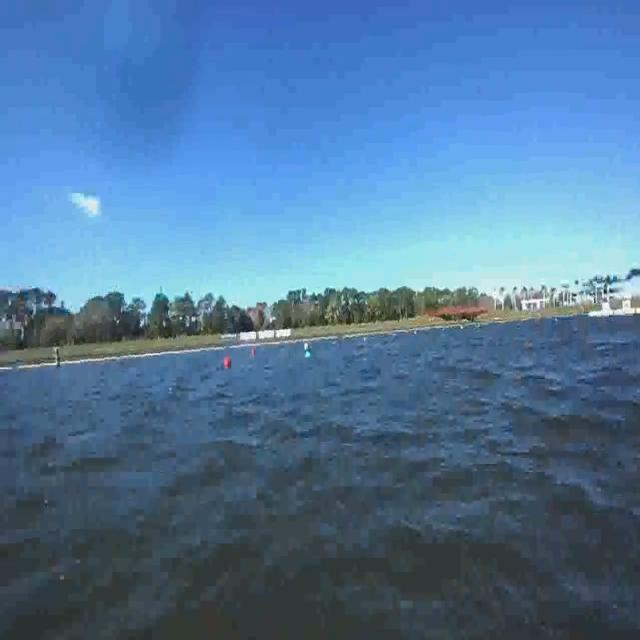green-buoy: (304, 348, 312, 358)
red-buoy: (223, 355, 230, 369), (252, 348, 256, 357)
yellow-buoy: (304, 340, 309, 351)
